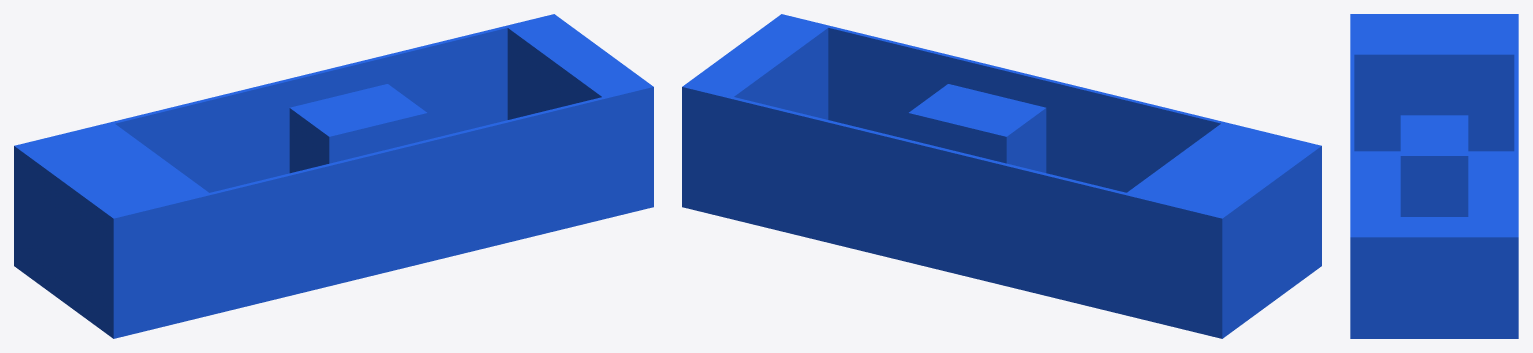
Rendered from Big Bailer.fbx.
3 views of the same model, side by side, from view 1: azimuth 30°, elevation 25°; view 2: azimuth 150°, elevation 25°; view 3: azimuth 270°, elevation 25° (orthographic). The views are drawn at different scales.
Parts seen in each view (by area): view 1: Box002; view 2: Box002; view 3: Box002.
Part boxes in pixels (x1=…): Box002: x1=14, y1=14, x2=653, y2=338; Box002: x1=682, y1=14, x2=1321, y2=338; Box002: x1=1350, y1=14, x2=1518, y2=338.
Bounding box in the file's own units: 740 × 157 × 236.
